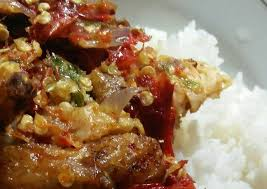ayam_geprek: (4, 3, 178, 189)
